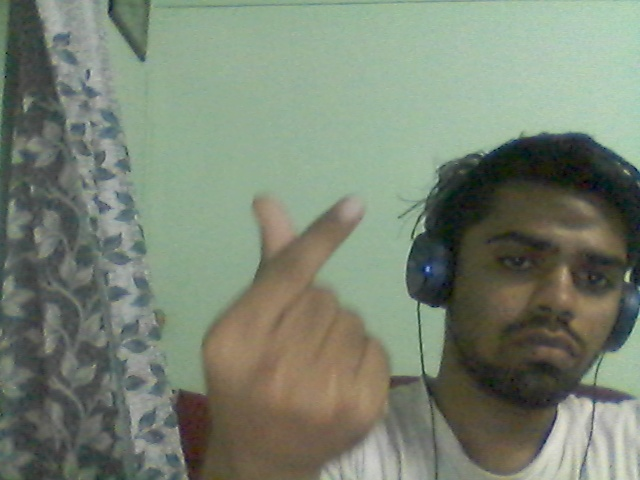I Love You: (148, 181, 409, 472)
